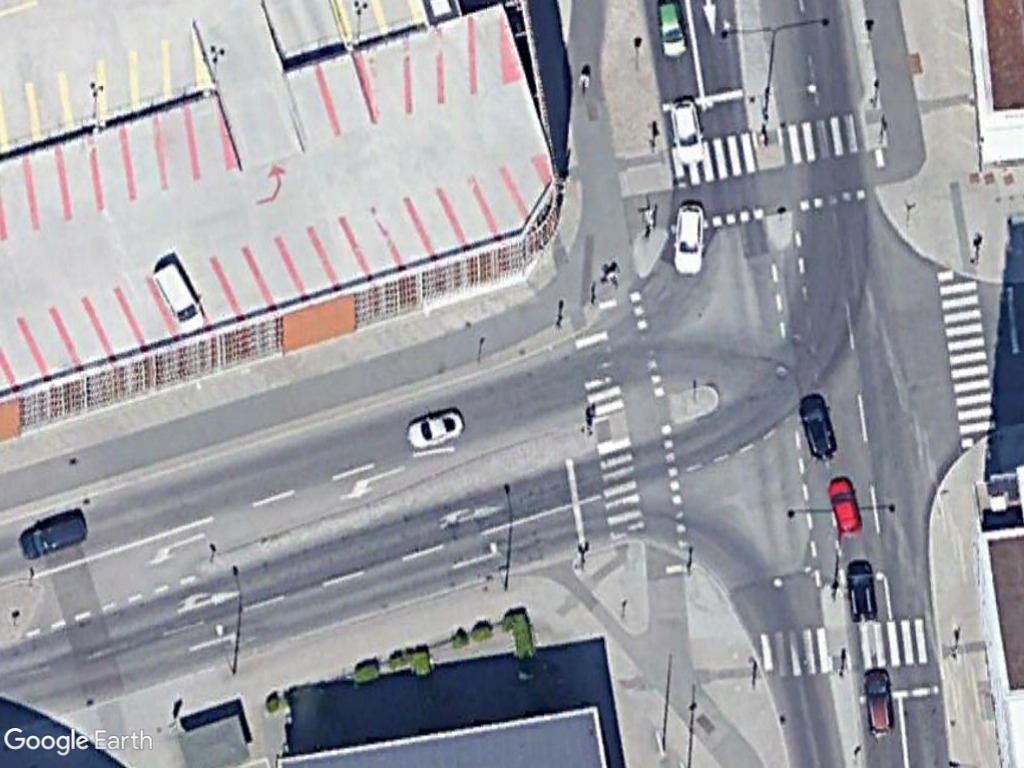car: (14, 507, 93, 565), (147, 259, 207, 335), (794, 388, 843, 467), (669, 194, 711, 279), (662, 96, 709, 171), (401, 401, 467, 454), (840, 554, 886, 630), (859, 663, 899, 739), (824, 474, 867, 540), (652, 1, 692, 63)
